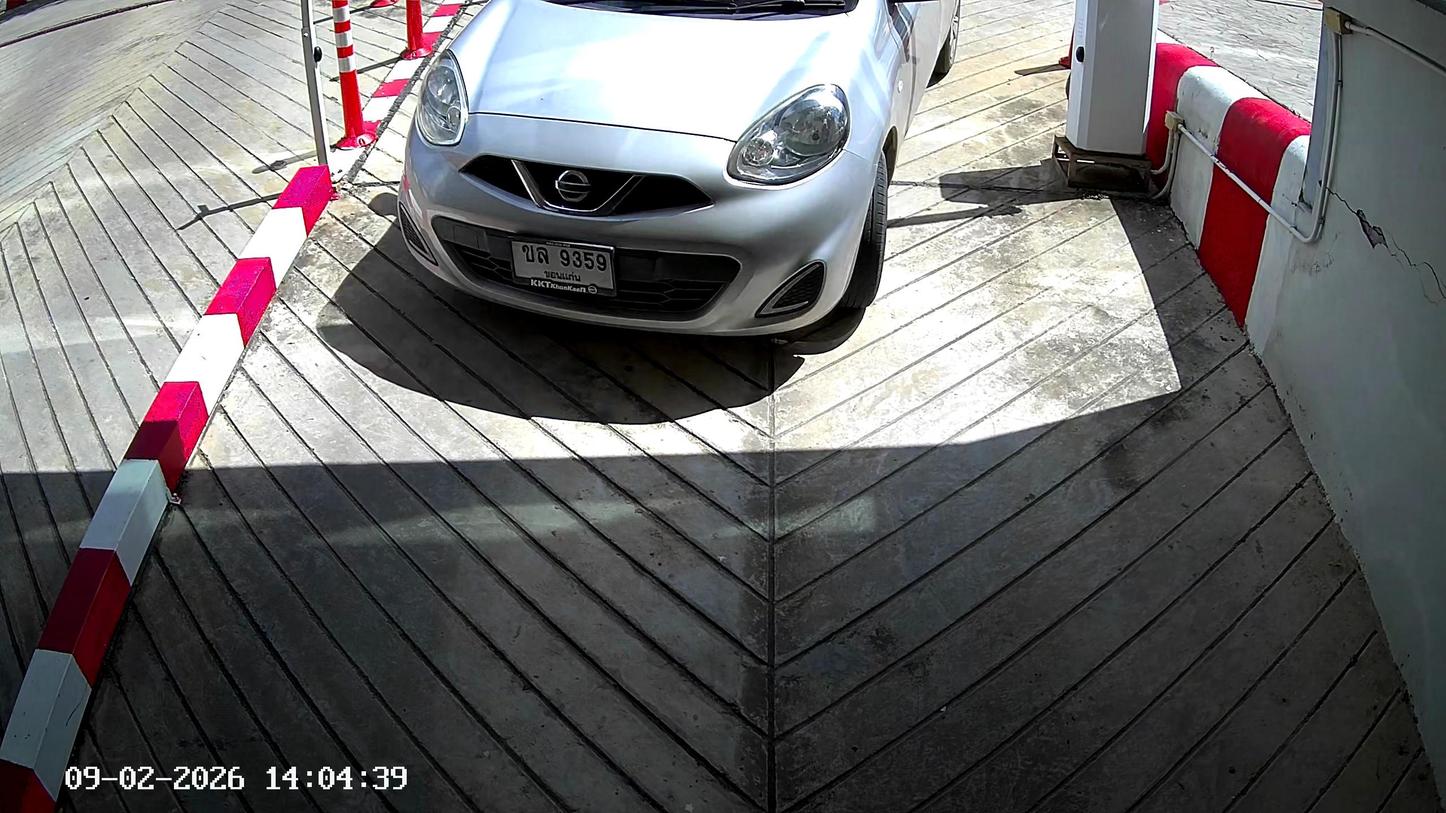car: (398, 2, 959, 347)
license-plate: (508, 232, 619, 301)
